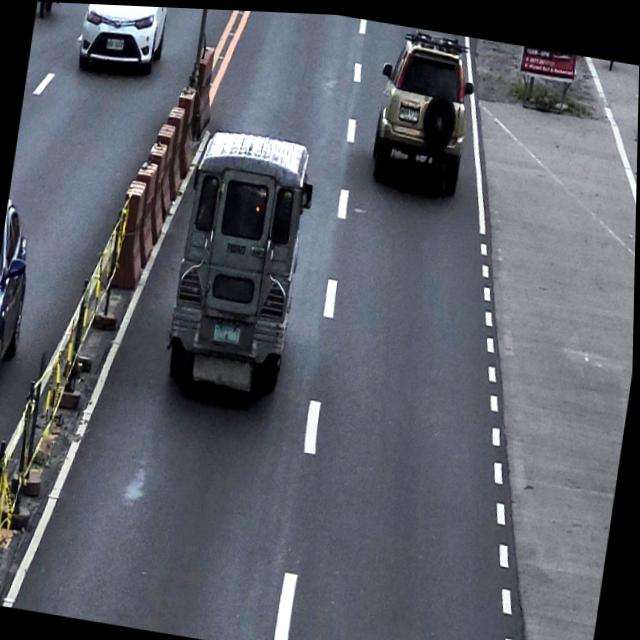Car: (365, 21, 480, 193), (0, 197, 39, 399), (73, 3, 169, 79)
Jeep: (162, 119, 321, 400)
License-Plate: (212, 318, 244, 344), (398, 100, 420, 120), (105, 35, 124, 51)
